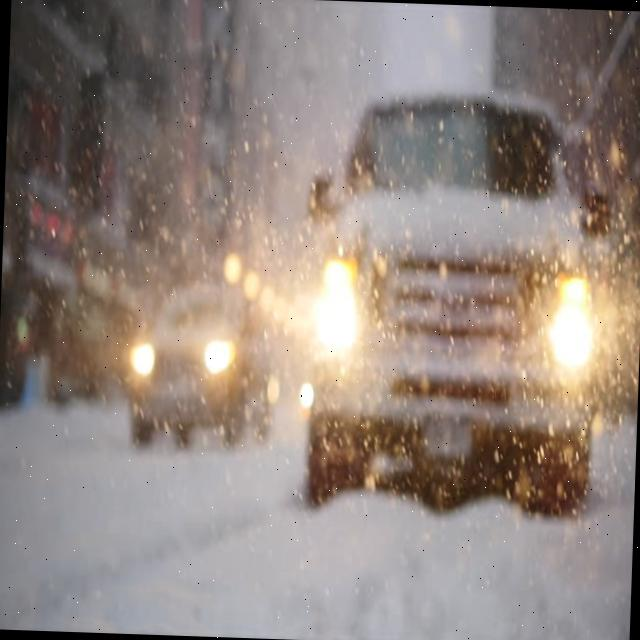car: (301, 84, 609, 512), (125, 274, 272, 446)
